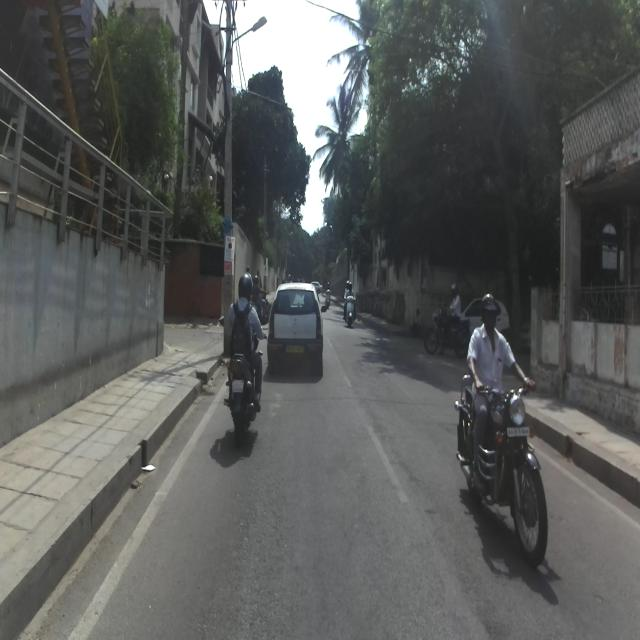car ahead at: (272, 277, 326, 377)
electric pole ahead at: (216, 0, 233, 347)
motorcycle ahead at: (458, 374, 551, 570), (222, 344, 266, 431)
